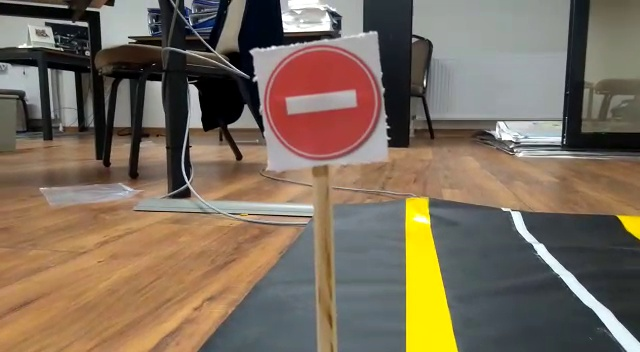girisi_olmayan_yol: (256, 43, 388, 161)
